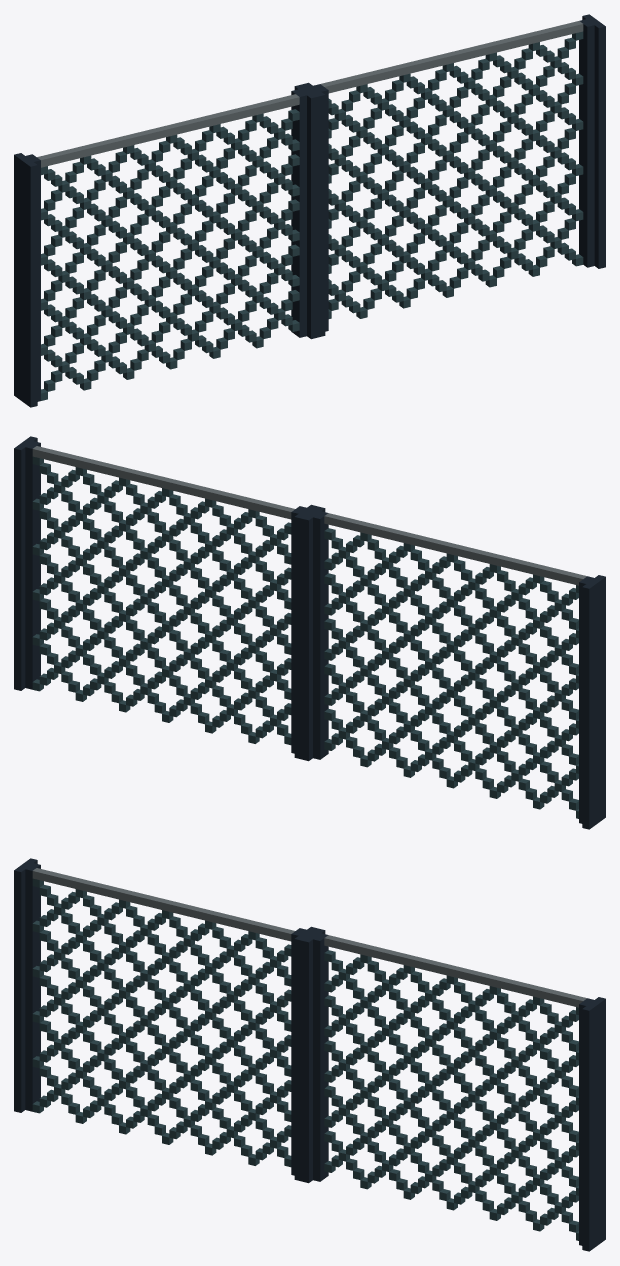
The model's file is wall3_straight2.obj.
3 views of the same model, one above another, from view 1: azimuth 30°, elevation 25°; view 2: azimuth 150°, elevation 25°; view 3: azimuth 330°, elevation 25° (orthographic).
Bounding box in the file's own units: 8 × 3.2 × 0.4.
Materials: 1 (1 with a texture image).
